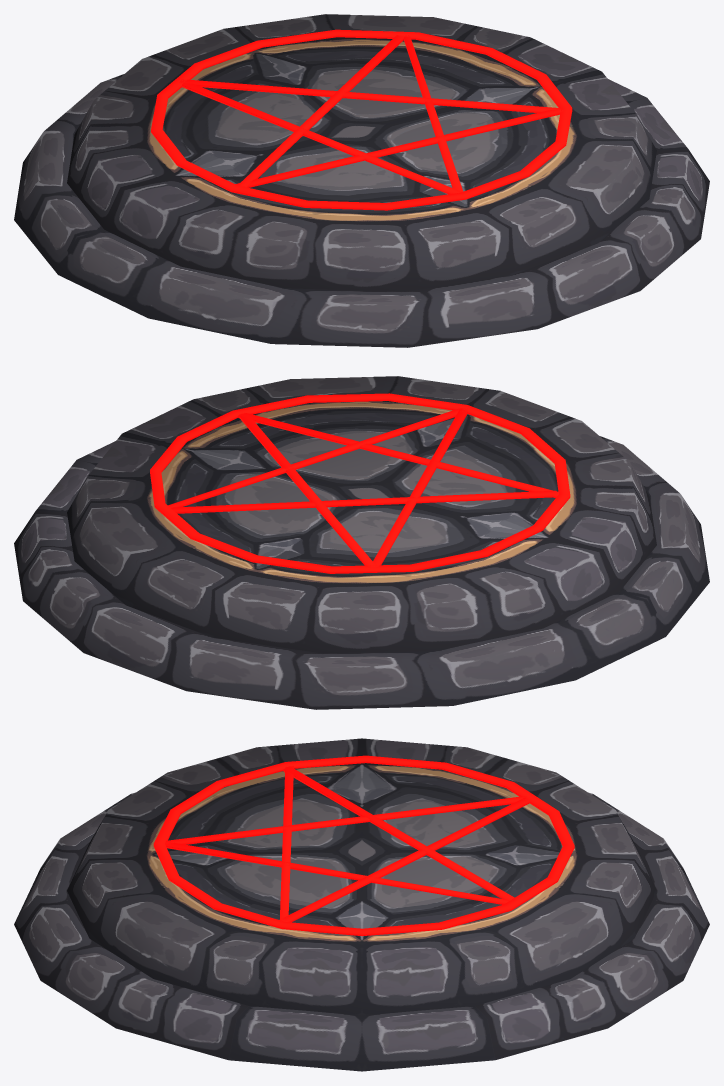
File: AltarPortal.fbx
3 renders of one model, top to bottom at view 1: azimuth 30°, elevation 25°; view 2: azimuth 150°, elevation 25°; view 3: azimuth 270°, elevation 25°, orthographic.
Parts seen in each view (by area): view 1: SM_PROP_platform_dungeon.001, Circle; view 2: SM_PROP_platform_dungeon.001, Circle; view 3: SM_PROP_platform_dungeon.001, Circle.
Boxes of the visible parts, x1=… form: SM_PROP_platform_dungeon.001: x1=14, y1=14, x2=709, y2=347; Circle: x1=151, y1=29, x2=572, y2=210; SM_PROP_platform_dungeon.001: x1=14, y1=376, x2=709, y2=709; Circle: x1=150, y1=393, x2=570, y2=573; SM_PROP_platform_dungeon.001: x1=14, y1=738, x2=709, y2=1071; Circle: x1=153, y1=755, x2=574, y2=936.
Size of the model in its own units: 3.16 by 0.4031 by 3.16.
Materials: 2 (1 with a texture image).
